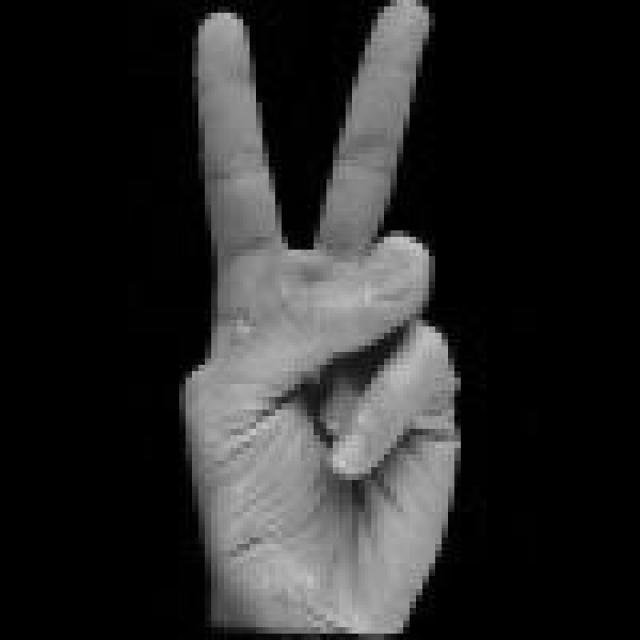V: (155, 3, 482, 630)
